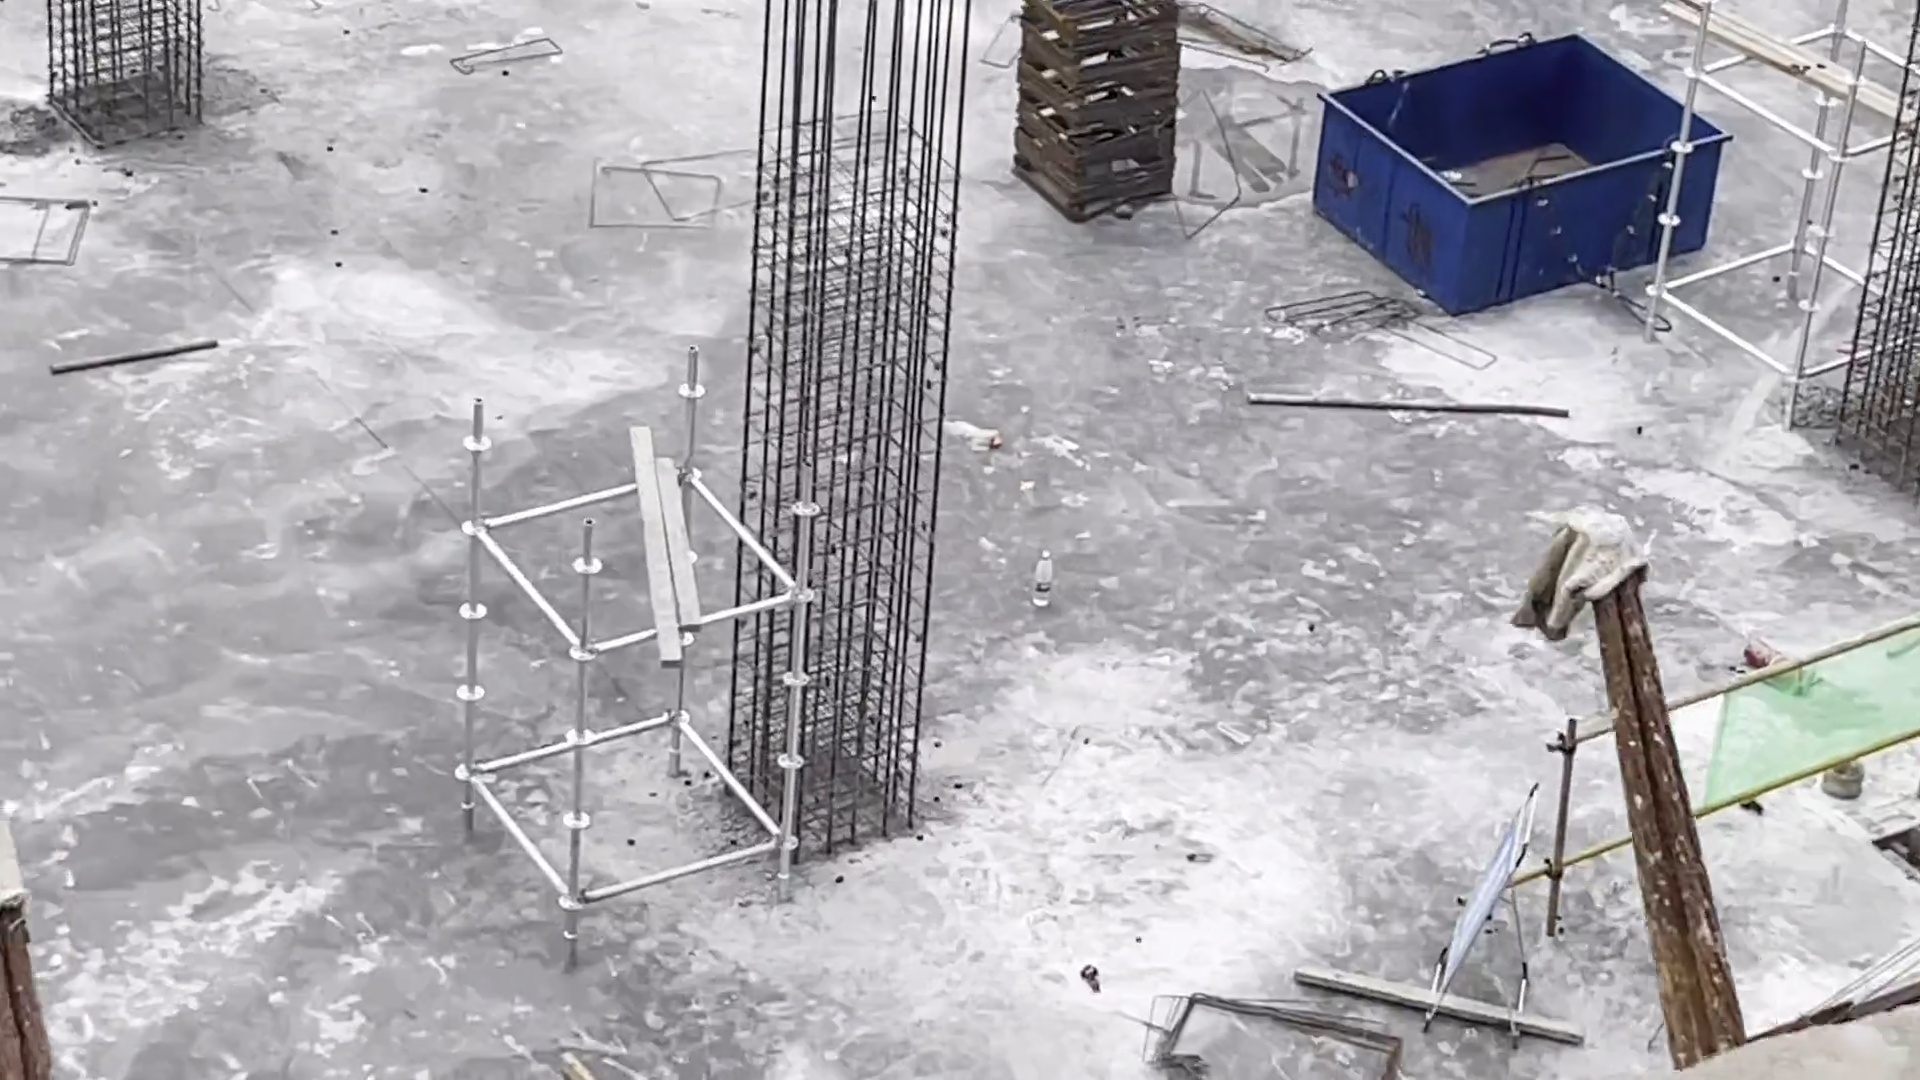hopper: (1308, 30, 1731, 316)
